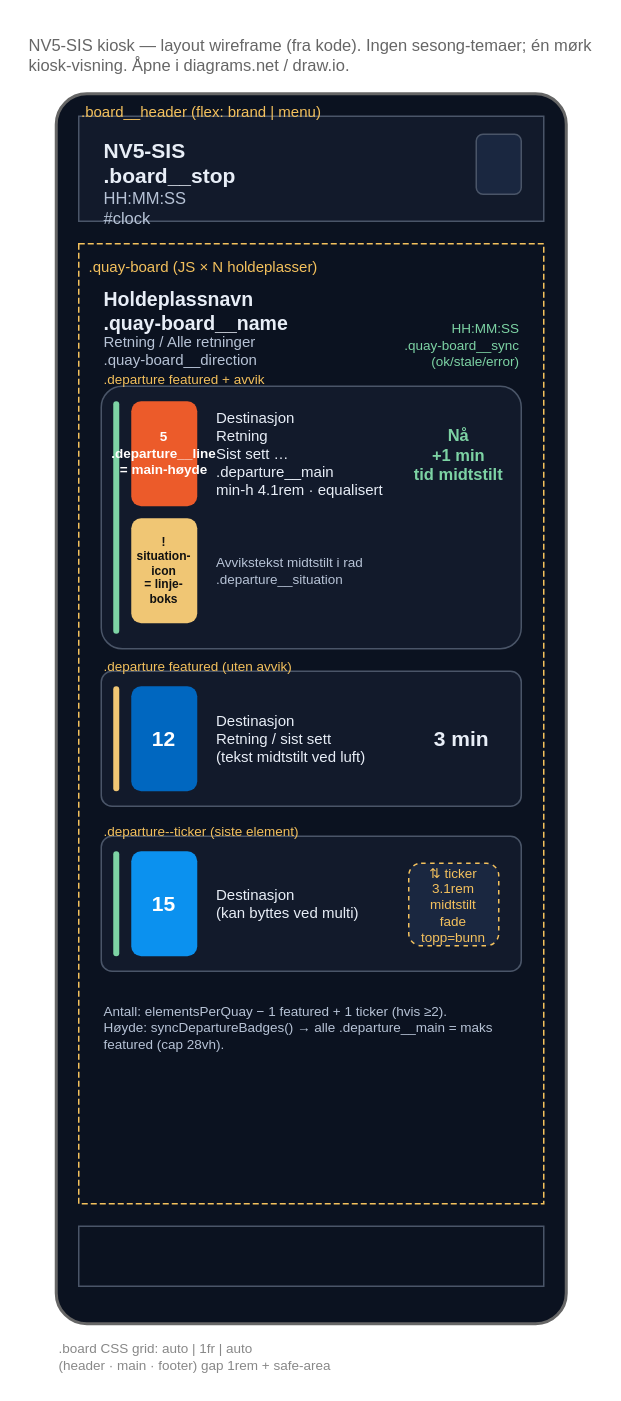
Some shapes in this 621 by 1401 pixel diagram are drawn without their labels. Here are the shapes that lost their labels. From the top down, the centre of each, then its label:
At [498,163]: "☰ menu__toggle".
At [310,1255]: "server abcd · main efgh .board__footer (showBuildInfo)".
